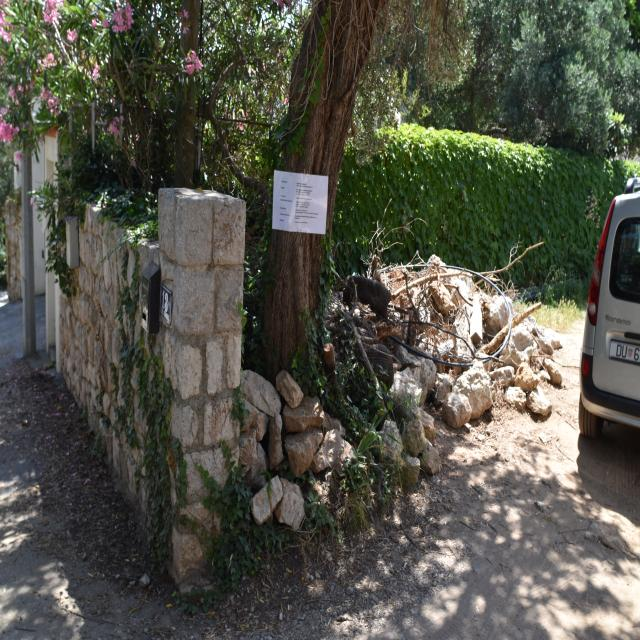entulho: (344, 272, 392, 316)
restos de madeira: (432, 245, 538, 357), (333, 262, 436, 371)
